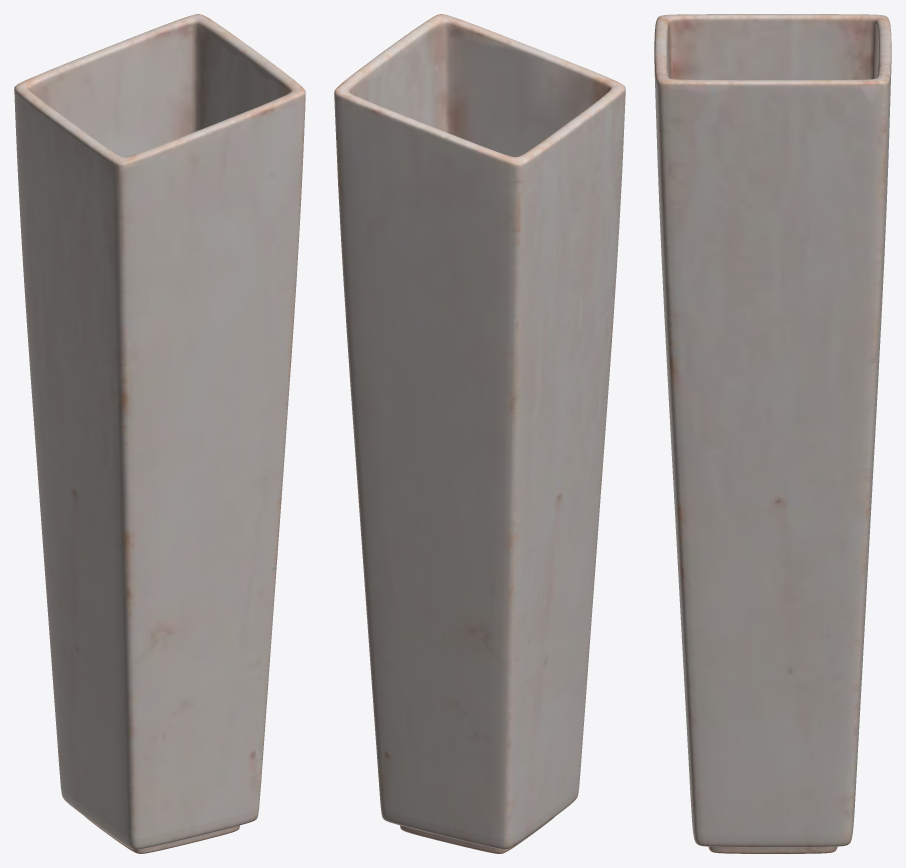
Rendered from ceramic_vase_03.glb.
3 renders of one model, left to right at view 1: azimuth 30°, elevation 25°; view 2: azimuth 150°, elevation 25°; view 3: azimuth 270°, elevation 25°, orthographic. The views are drawn at different scales.
Visible parts, largest first — view 1: ceramic_vase_03; view 2: ceramic_vase_03; view 3: ceramic_vase_03.
Part boxes in pixels (bbox=[...]): ceramic_vase_03: bbox=[14, 14, 305, 853]; ceramic_vase_03: bbox=[334, 14, 625, 853]; ceramic_vase_03: bbox=[654, 14, 891, 853].
Size of the model in its own units: 0.1123 by 0.4144 by 0.1123.
Materials: 1 (1 with a texture image).
